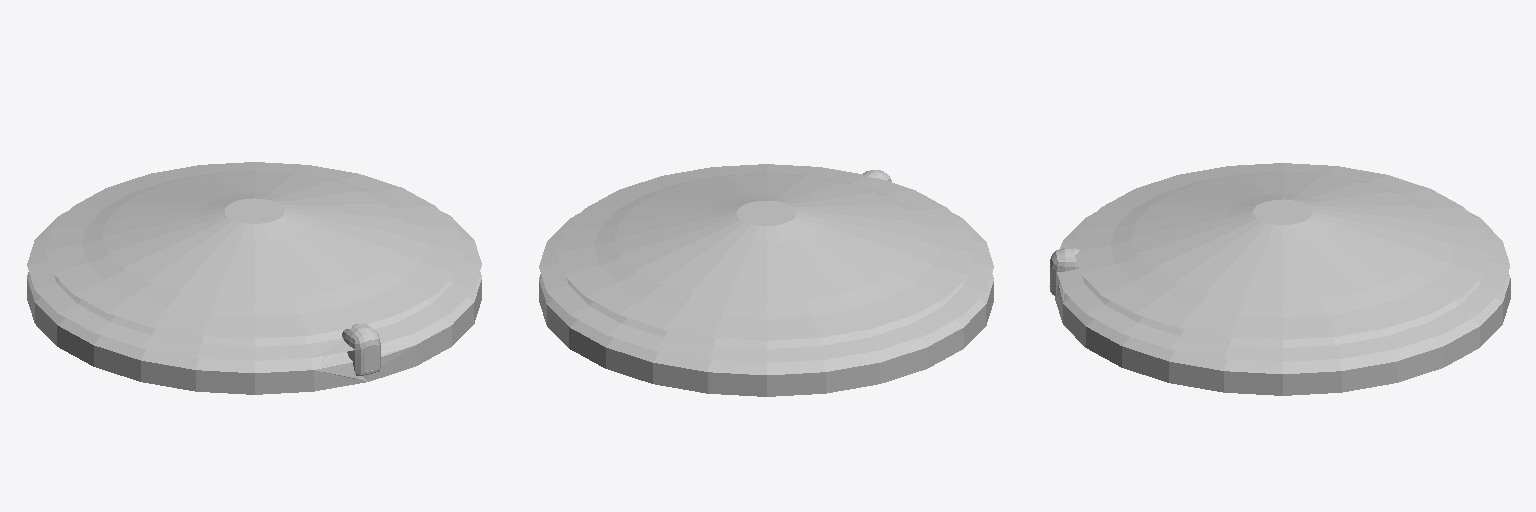
Rendered from CloneFactory_BaseV2.obj.
The picture shows the model from 3 angles: view 1: azimuth 30°, elevation 25°; view 2: azimuth 150°, elevation 25°; view 3: azimuth 270°, elevation 25°; orthographic projection.
Visible parts, largest first — view 1: CloneFactory_BaseV2.obj; view 2: CloneFactory_BaseV2.obj; view 3: CloneFactory_BaseV2.obj.
Boxes of the visible parts, x1=… form: CloneFactory_BaseV2.obj: x1=27, y1=162, x2=481, y2=394; CloneFactory_BaseV2.obj: x1=539, y1=164, x2=993, y2=396; CloneFactory_BaseV2.obj: x1=1049, y1=163, x2=1510, y2=395.
Size of the model in its own units: 1000 by 212 by 1012.